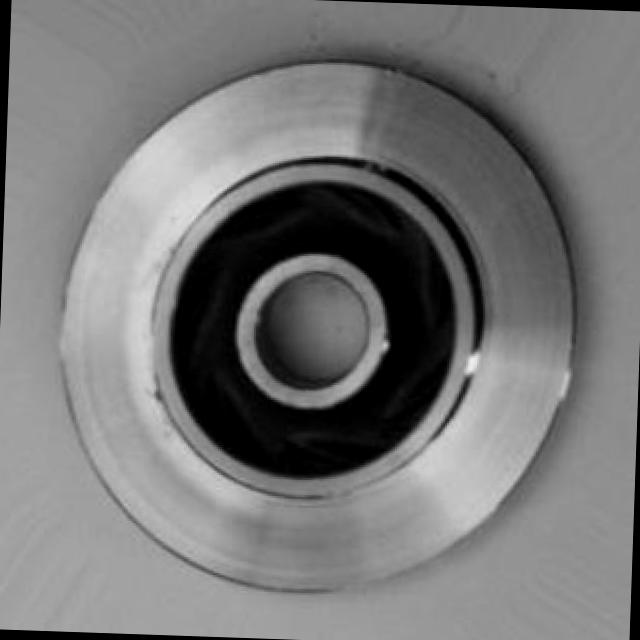Defect: (144, 382, 169, 415)
